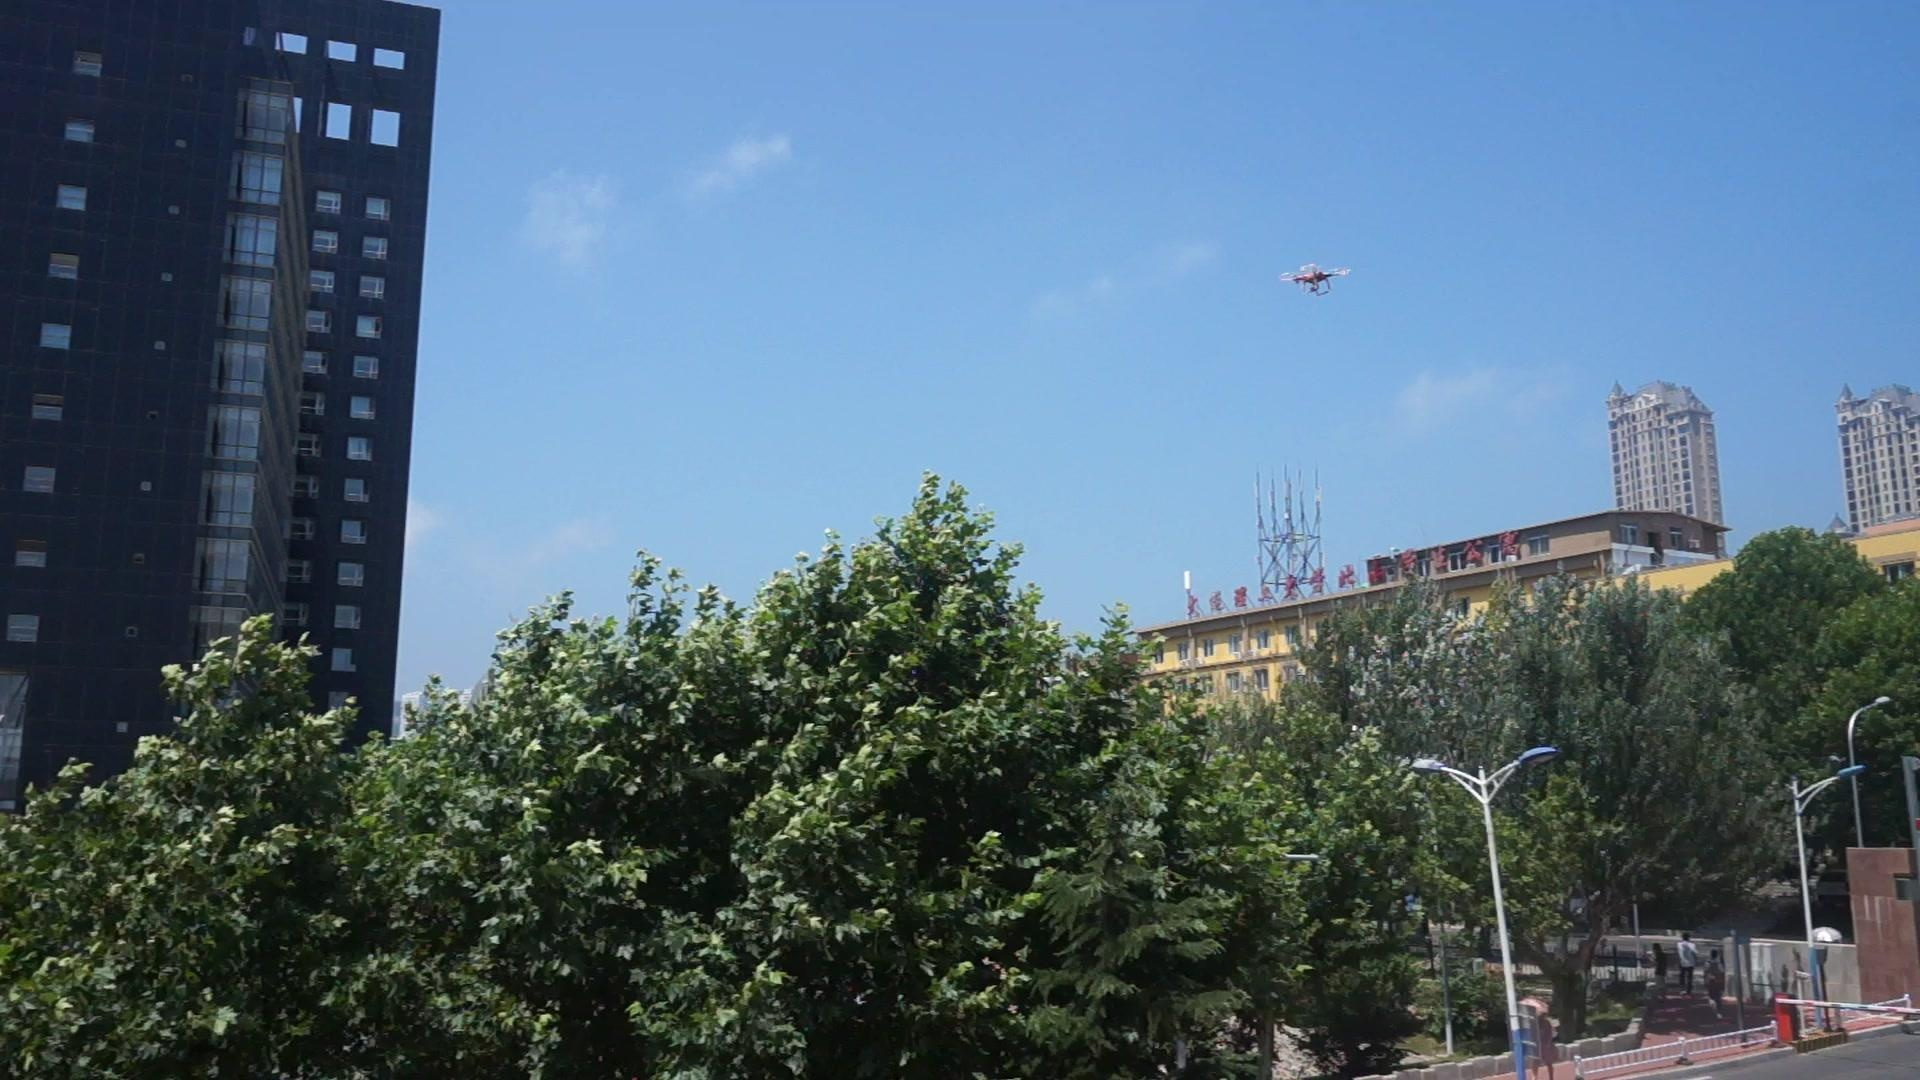UAV: (1278, 264, 1353, 298)
